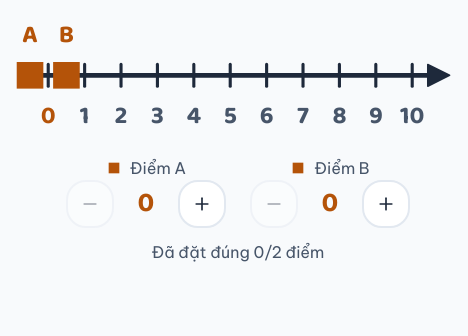
Scenario: LineTry › on a lesson screen counts the points set right and then says it is done
This screenshot has width=468, height=336.
Expected: the text "Đã đặt đúng 0/2 điểm" is shown, [152,240,324,264]
Click the button named "Tiến điểm A" at (202, 204), box [178,180,226,228]
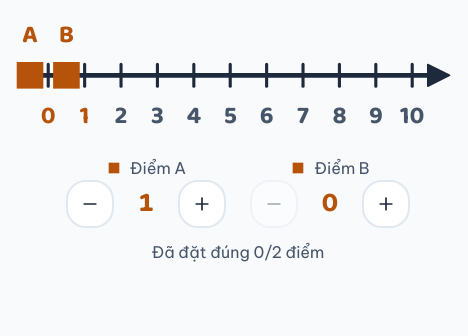
Click the button named "Tiến điểm A" at (202, 204), box [178,180,226,228]
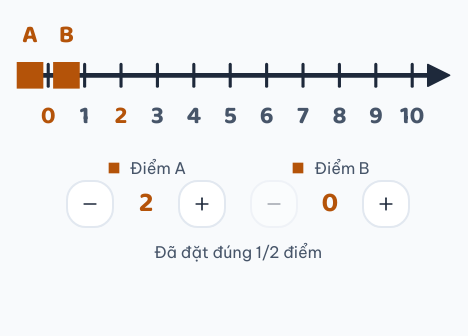
Expected: the text "A ở 2, B ở 1." is not shown
Now the text "Đã đặt đúng 1/2 điểm" is shown, box [154,240,322,264]
Click the button named "Tiến điểm B" at (386, 204), box [362,180,410,228]
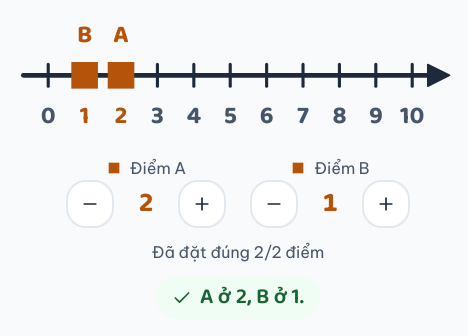
Now the text "Đã đặt đúng 2/2 điểm" is shown, box [152,240,324,264]
Now the text "A ở 2, B ở 1." is shown, box [156,276,320,319]
